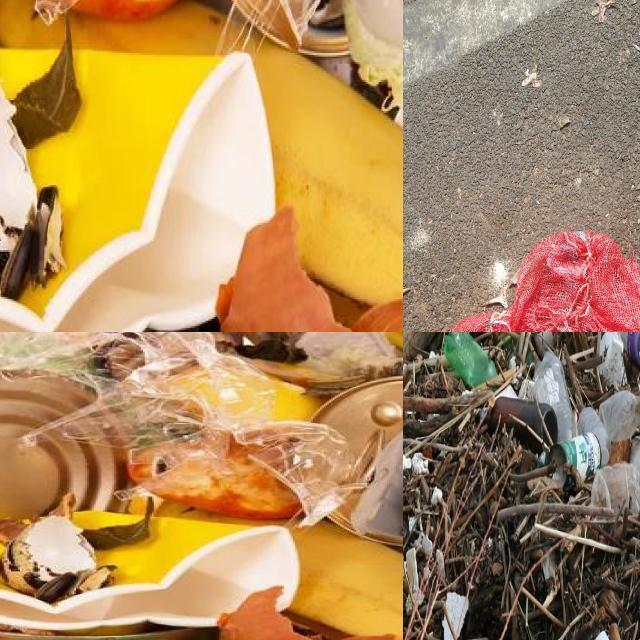Background: (403, 0, 640, 332)
Garbage: (0, 332, 403, 640), (403, 332, 640, 640)
Plastic_Bag: (449, 231, 640, 332)
Plastic_bottle: (488, 396, 558, 453), (534, 351, 573, 441), (444, 332, 497, 387), (590, 463, 640, 515), (578, 407, 611, 466), (600, 391, 638, 442)
Tin_box: (551, 434, 600, 480)
contaminated_waste: (0, 52, 274, 332), (0, 372, 125, 517), (311, 379, 403, 544)
